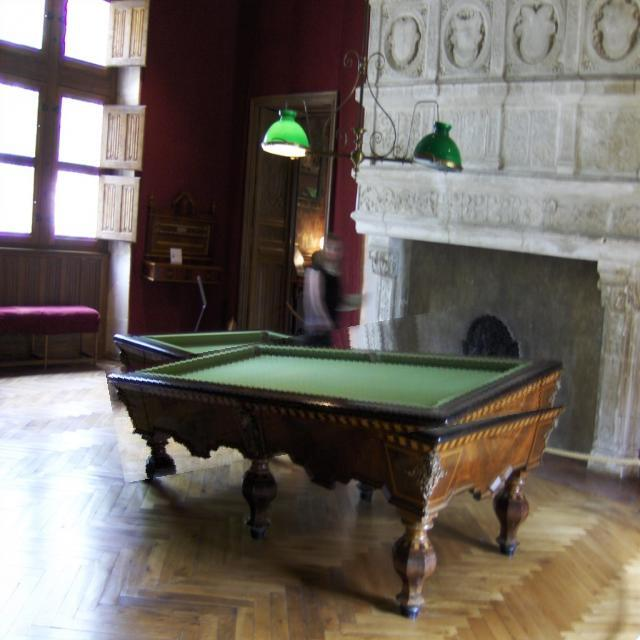Billiard table: (109, 310, 567, 463)
